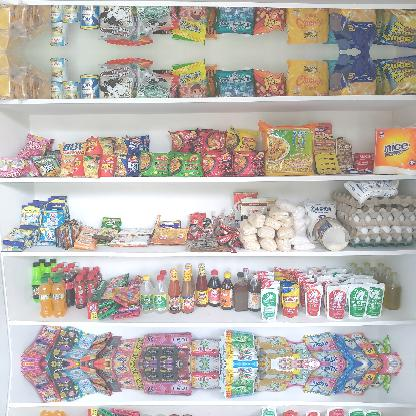Lady-s-Choice: (313, 217, 349, 251)
